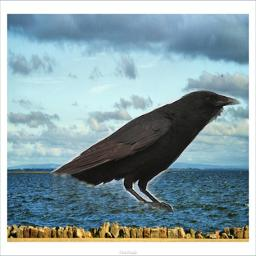Crow: (51, 88, 241, 214)
